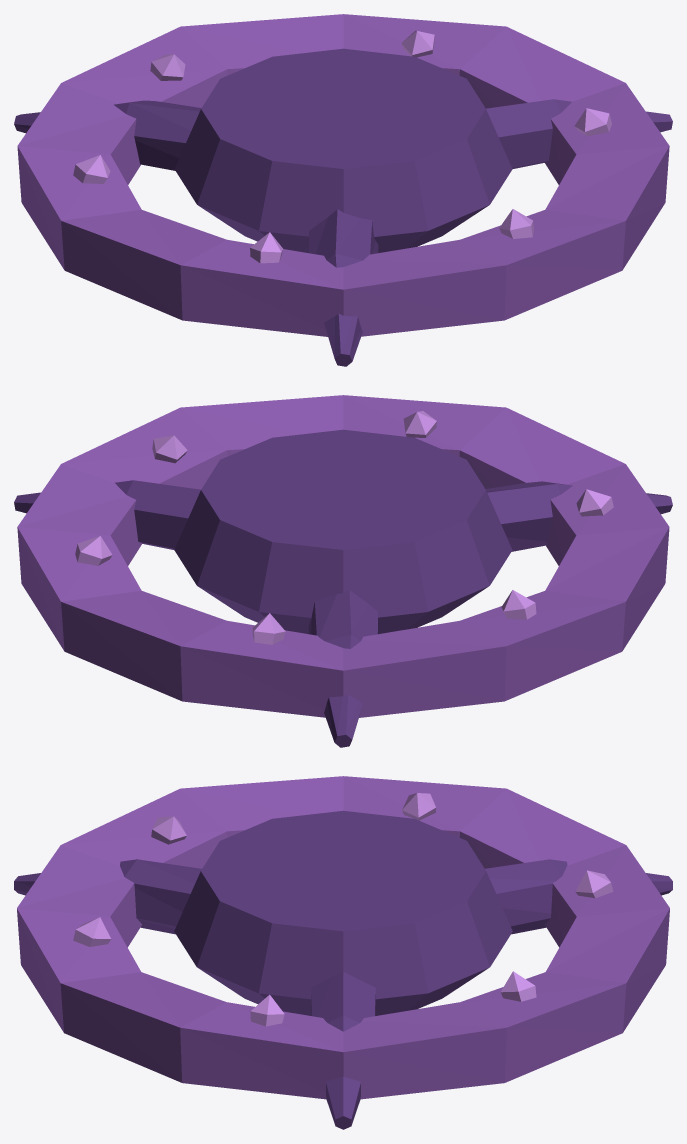
File: AmethystRoot.glb
3 views of the same model, one above another, from view 1: azimuth 30°, elevation 25°; view 2: azimuth 150°, elevation 25°; view 3: azimuth 270°, elevation 25° (orthographic).
Visible parts, largest first — view 1: AmethystRoot_AmethystGeodeRim, AmethystRoot_AmethystRootCore, AmethystRoot_AmethystRootCrystals; view 2: AmethystRoot_AmethystGeodeRim, AmethystRoot_AmethystRootCore, AmethystRoot_AmethystRootCrystals; view 3: AmethystRoot_AmethystGeodeRim, AmethystRoot_AmethystRootCore, AmethystRoot_AmethystRootCrystals.
Boxes of the visible parts, x1,y1,x2,y2 form: AmethystRoot_AmethystGeodeRim: (17,14,669,336); AmethystRoot_AmethystRootCore: (14,48,672,366); AmethystRoot_AmethystRootCrystals: (73,30,611,263); AmethystRoot_AmethystGeodeRim: (17,395,669,717); AmethystRoot_AmethystRootCore: (14,429,672,747); AmethystRoot_AmethystRootCrystals: (75,411,613,644); AmethystRoot_AmethystGeodeRim: (17,776,669,1099); AmethystRoot_AmethystRootCore: (14,810,672,1129); AmethystRoot_AmethystRootCrystals: (73,793,613,1026).
Size of the model in its own units: 3.7 by 0.6 by 3.46.
